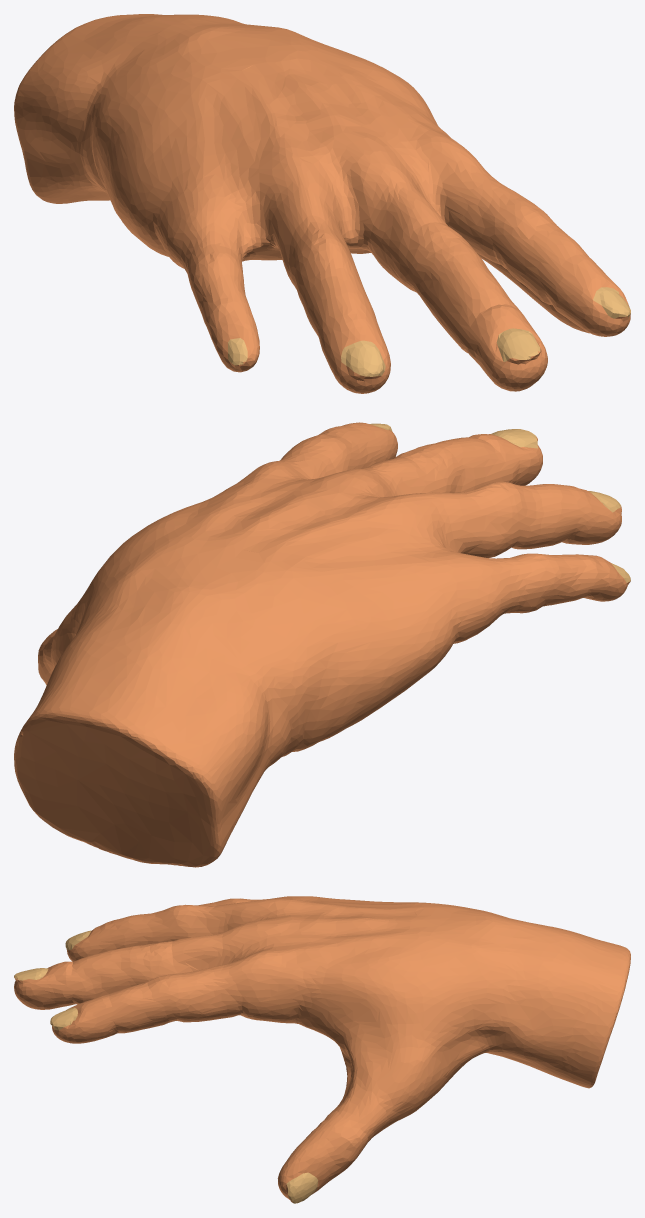
File: RHand VR.fbx
3 renders of one model, top to bottom at view 1: azimuth 30°, elevation 25°; view 2: azimuth 150°, elevation 25°; view 3: azimuth 270°, elevation 25°, orthographic. The views are drawn at different scales.
Parts seen in each view (by area): view 1: Hand_2019.001_Hand_2019.001; view 2: Hand_2019.001_Hand_2019.001; view 3: Hand_2019.001_Hand_2019.001.
Part boxes in pixels (x1,y1,x2,y2): Hand_2019.001_Hand_2019.001: (14, 14, 630, 393); Hand_2019.001_Hand_2019.001: (14, 422, 630, 867); Hand_2019.001_Hand_2019.001: (14, 896, 630, 1203).
Size of the model in its own units: 206 by 109 by 312.
